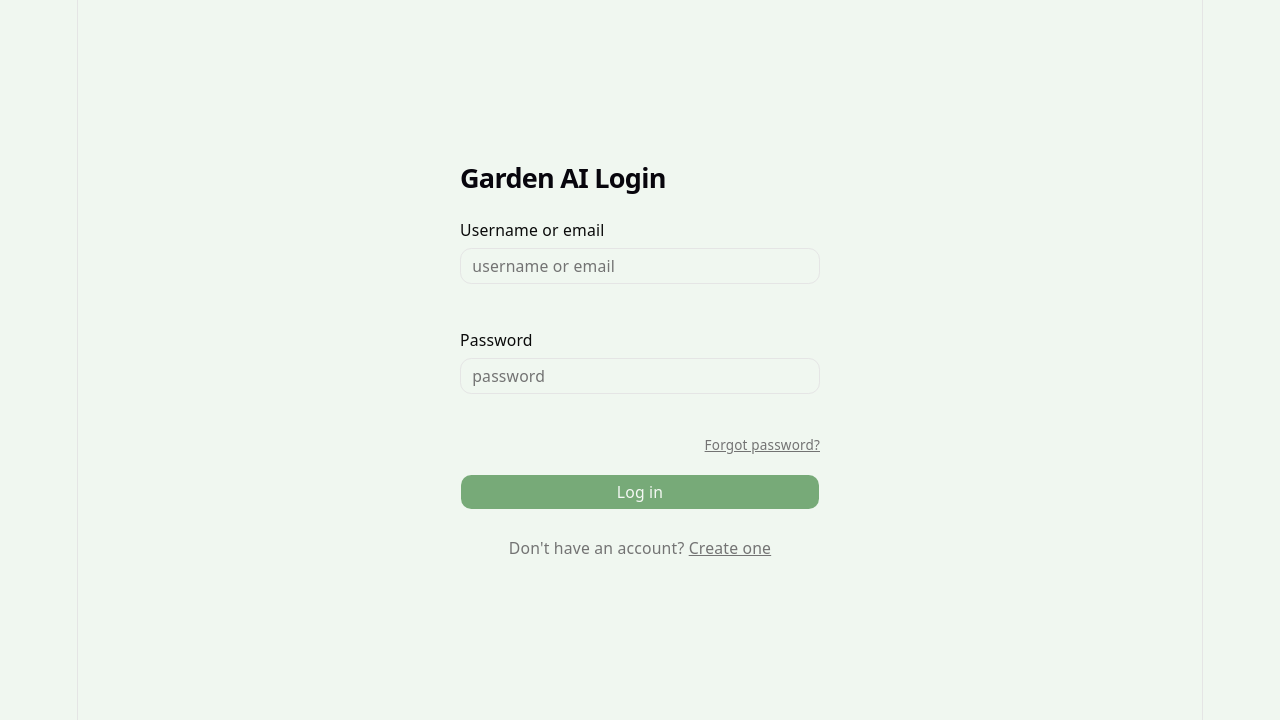
Login › shows a root error message on API failure
Type "alice" into the field labelled "Username or email". click: x=640, y=266
box: [460, 248, 820, 284]
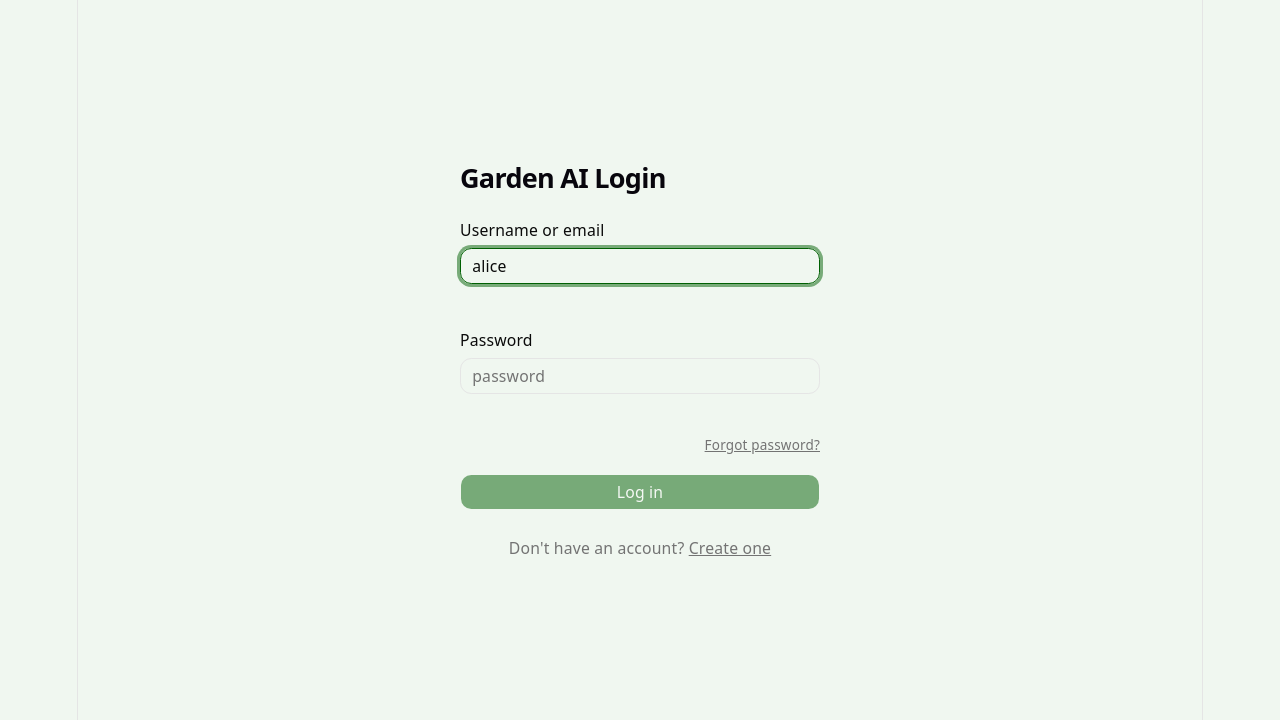
Type "wrongpass" into the password field labelled "Password". click: x=640, y=376
box: [460, 358, 820, 394]
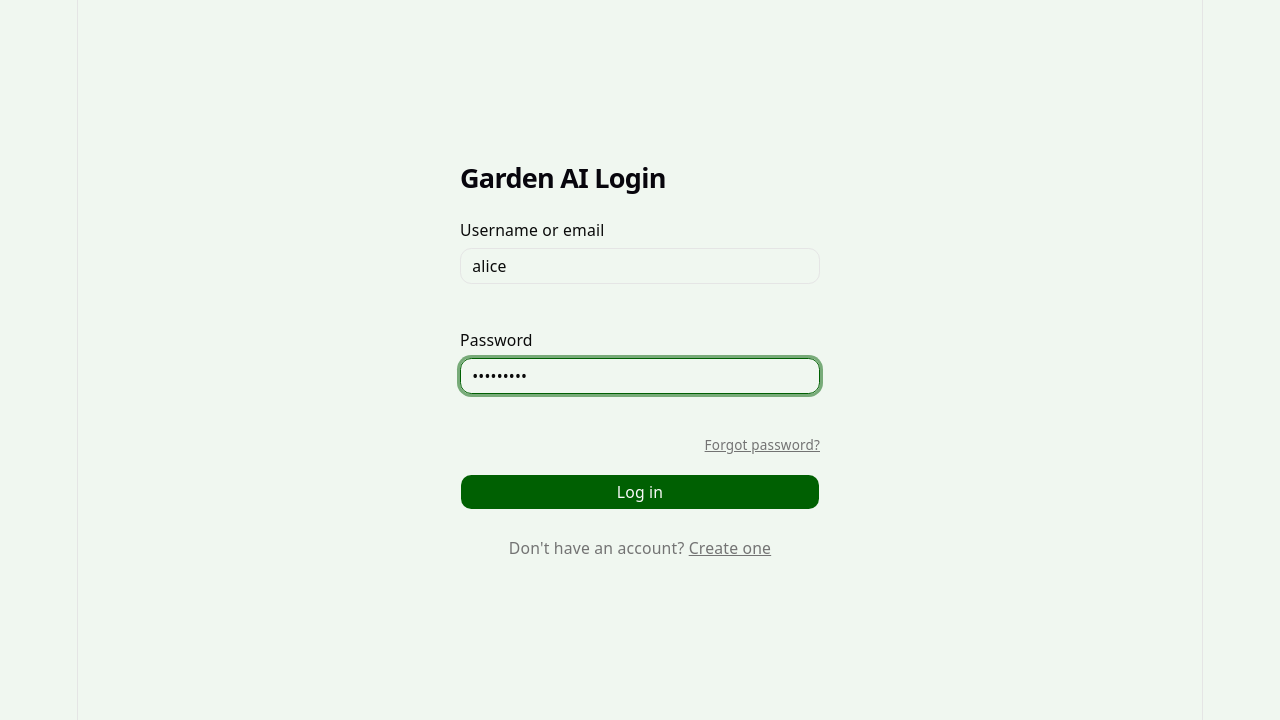
Click the button "Log in". click: x=640, y=492
box: [460, 474, 820, 510]
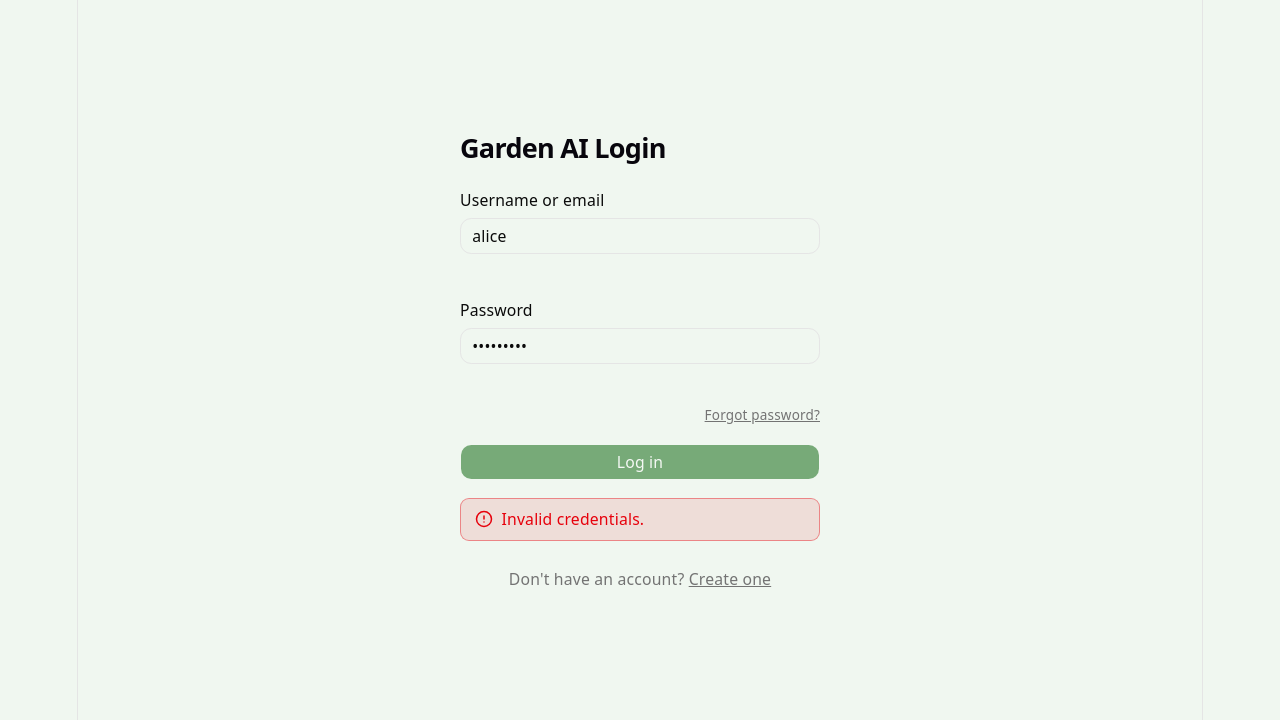
Now the text "Invalid credentials." is shown, box [502, 508, 644, 530]
